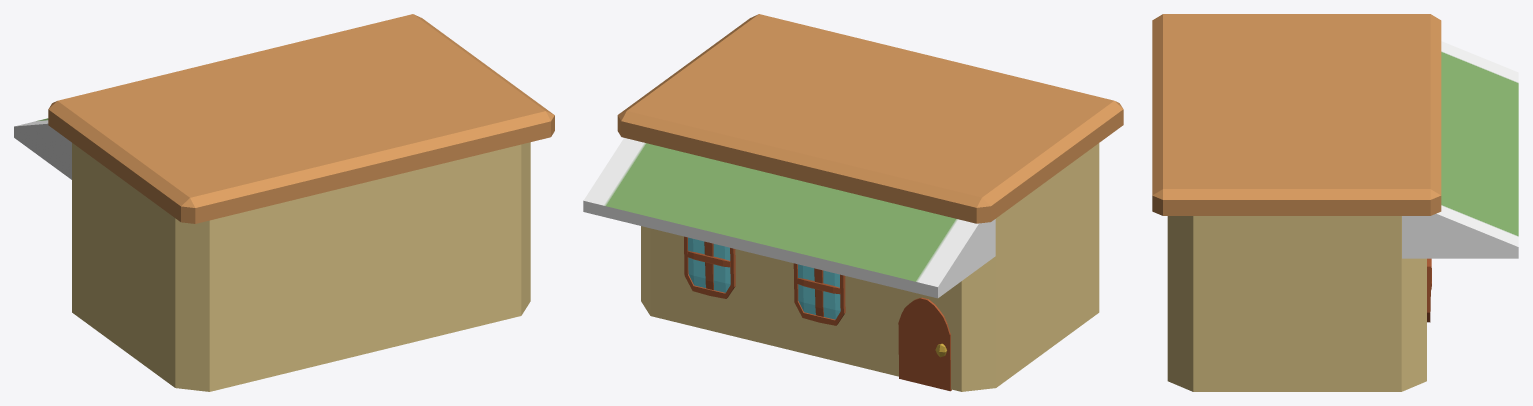
The model's file is Doenuts.fbx.
3 renders of one model, left to right at view 1: azimuth 30°, elevation 25°; view 2: azimuth 150°, elevation 25°; view 3: azimuth 270°, elevation 25°, orthographic.
Visible parts, largest first — view 1: Cube, Cube.001, Cube.002; view 2: Cube.001, Cube, Cube.002, Cube.003, Cube.010, Cube.005; view 3: Cube.001, Cube, Cube.002.
Boxes of the visible parts, x1,y1,x2,y2 form: Cube: (72, 142, 530, 391); Cube.001: (48, 14, 554, 223); Cube.002: (14, 118, 71, 179); Cube.001: (617, 14, 1123, 223); Cube: (641, 143, 1099, 391); Cube.002: (583, 138, 995, 298); Cube.003: (898, 297, 951, 391); Cube.010: (793, 263, 845, 325); Cube.005: (684, 236, 735, 298); Cube.001: (1152, 14, 1441, 215); Cube: (1167, 216, 1426, 391); Cube.002: (1402, 41, 1518, 258).
Size of the model in its own units: 1613 by 837 by 1357.
Materials: 7 (1 with a texture image).
